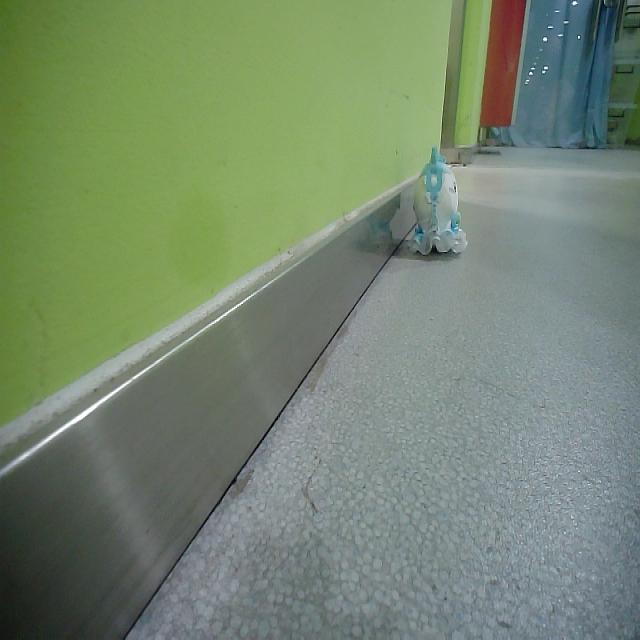xiaoba: (412, 147, 472, 259)
